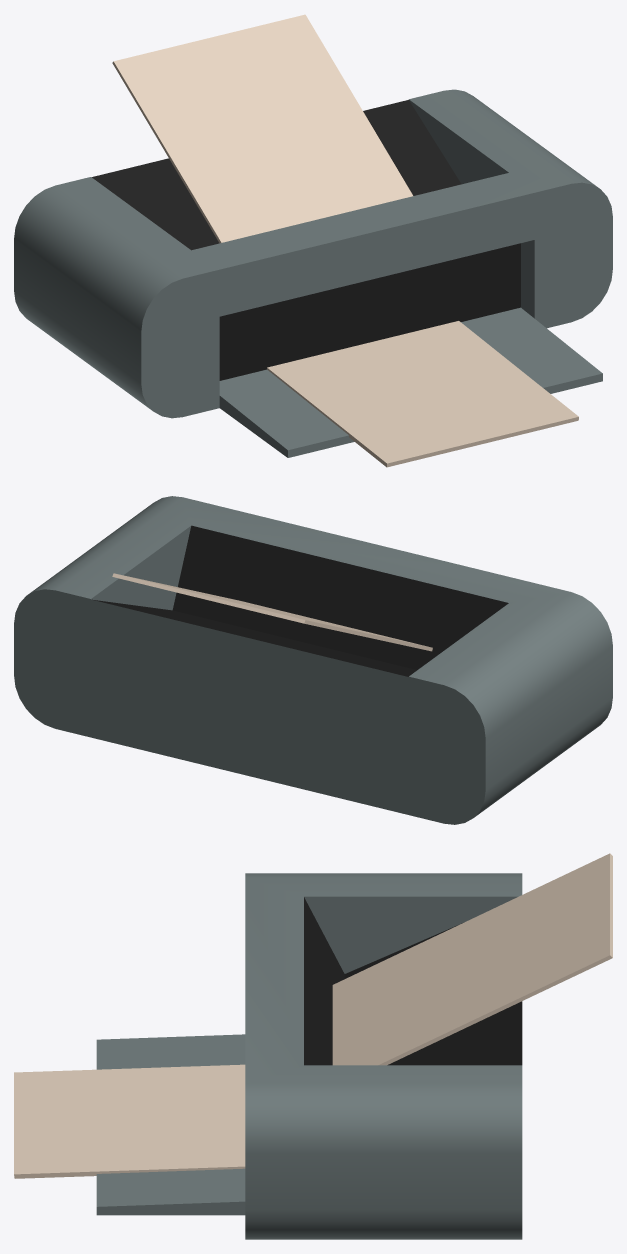
File: Printer-2.fbx
3 views of the same model, one above another, from view 1: azimuth 30°, elevation 25°; view 2: azimuth 150°, elevation 25°; view 3: azimuth 270°, elevation 25° (orthographic). The views are drawn at different scales.
Visible parts, largest first — view 1: Printer-2, Papper-6, Papper-5; view 2: Printer-2, Papper-6; view 3: Printer-2, Papper-6, Papper-5.
Boxes of the visible parts, <box> form: Printer-2: <box>14,89,612,457</box>; Papper-6: <box>112,14,412,243</box>; Papper-5: <box>267,321,578,467</box>; Printer-2: <box>14,496,612,824</box>; Papper-6: <box>112,573,432,651</box>; Printer-2: <box>96,873,522,1239</box>; Papper-6: <box>332,853,612,1065</box>; Papper-5: <box>14,1064,245,1178</box>.
Bounding box in the file's own units: 0.7112 × 0.3014 × 0.7188.
